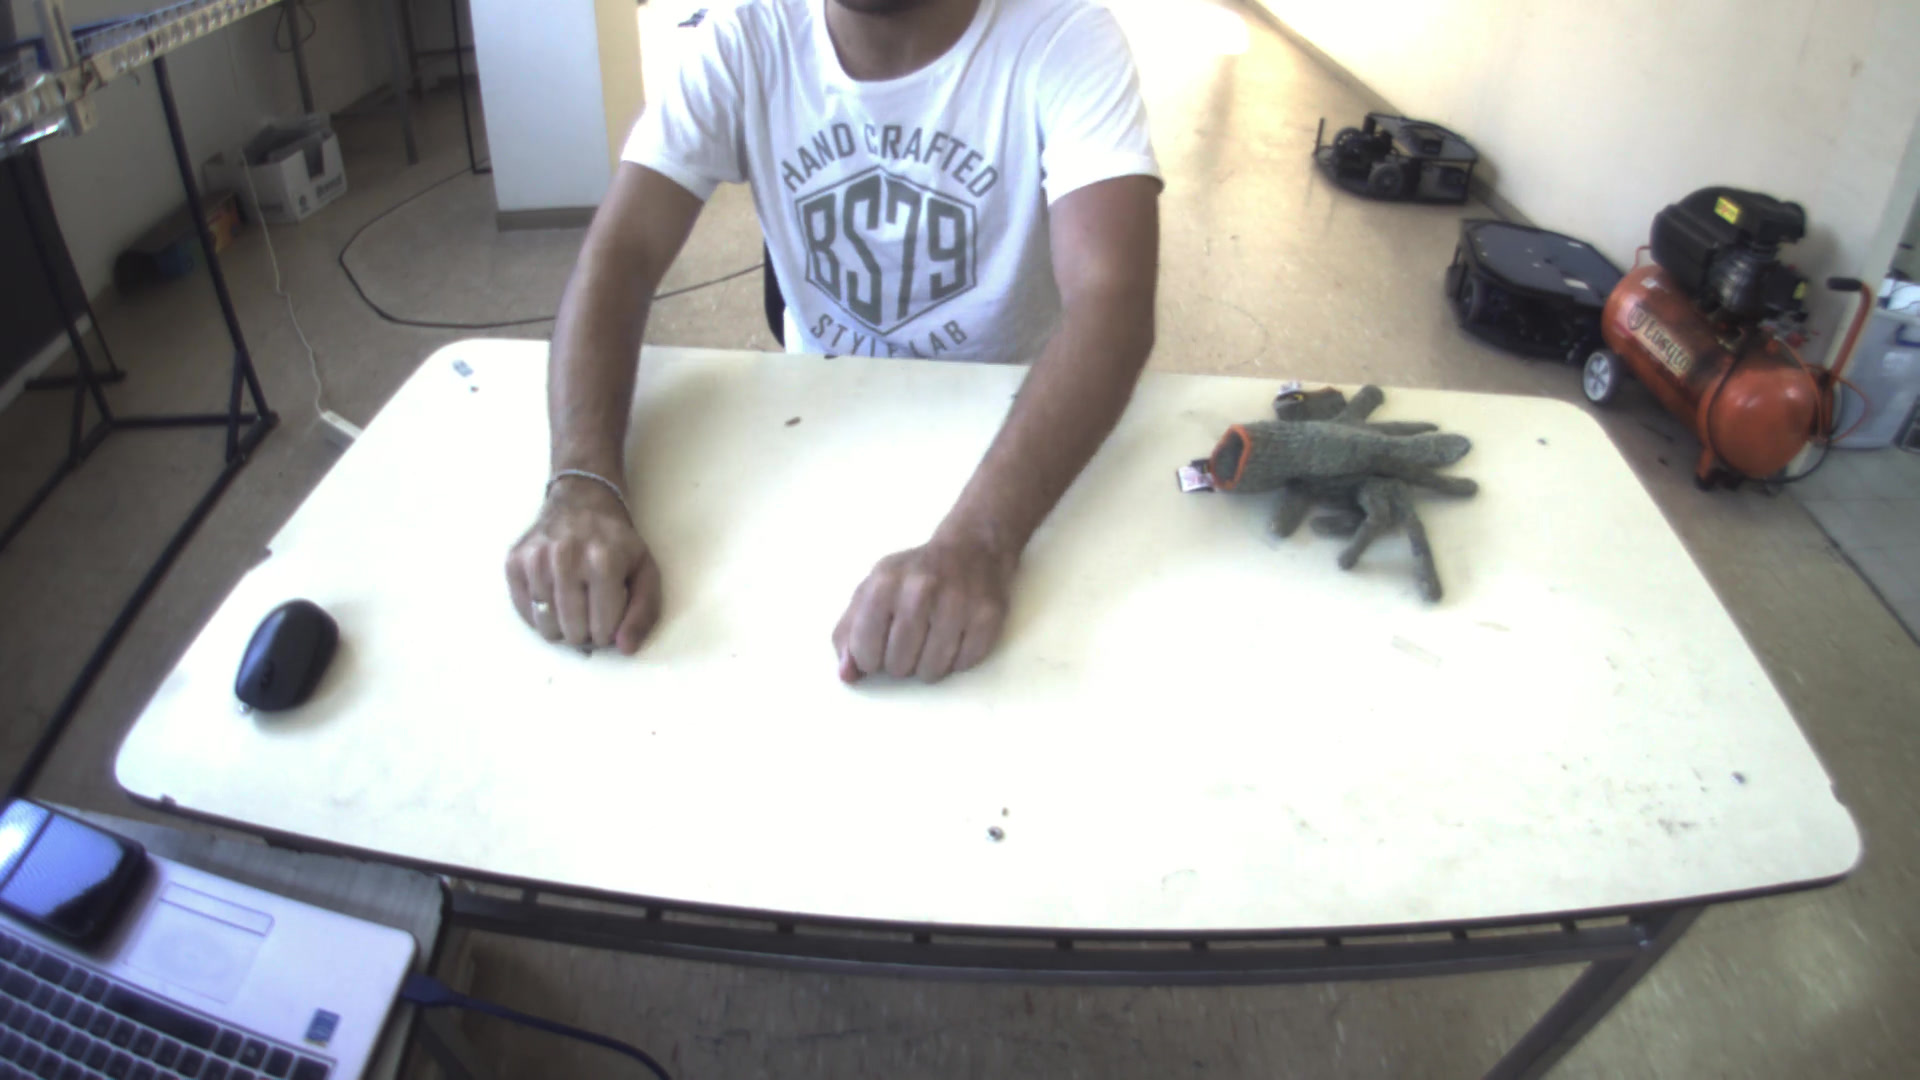hand: (495, 451, 675, 657), (828, 509, 1031, 682)
